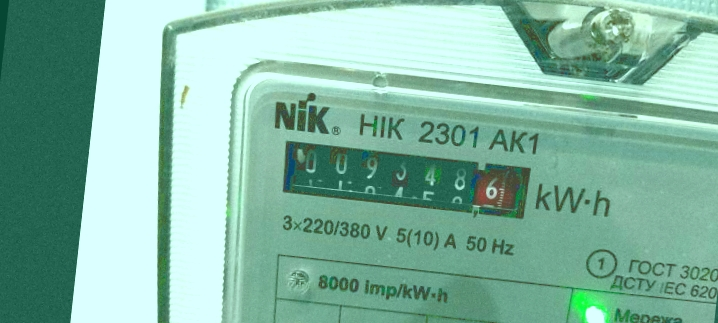0: (301, 148, 320, 175), (332, 148, 349, 176)
3: (393, 156, 409, 182)
4: (419, 157, 441, 189)
6: (481, 172, 501, 202)
8: (451, 163, 469, 193)
9: (363, 155, 379, 183)
screen: (261, 124, 546, 232)
